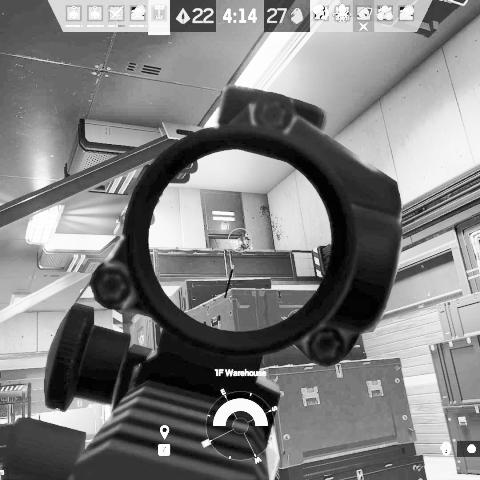Character: (238, 233, 254, 250)
Head: (243, 236, 252, 246)
